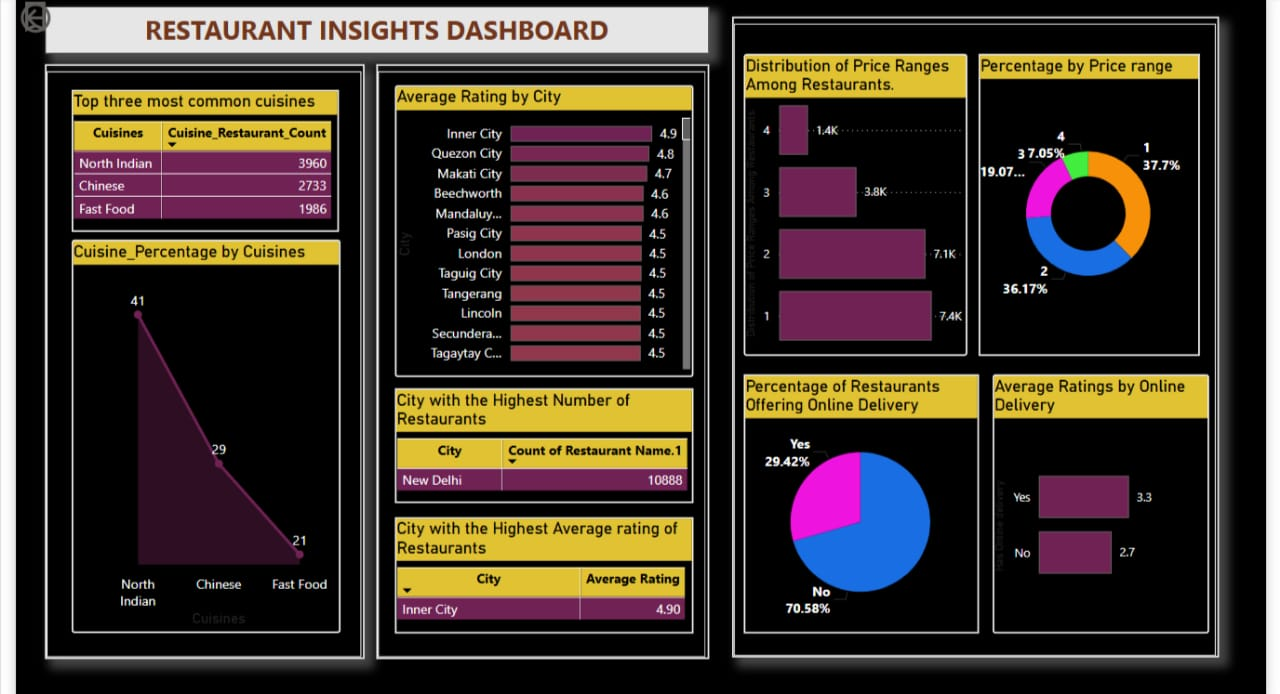

This screenshot's page, from the dashboard's own definition file:
{"tool":"powerbi","page":{"name":"LEVEL 1","canvas":[1280,720],"ordinal":0},"visuals":[{"type":"shape","box":[29.8,69,327.4,609.5],"z":0},{"type":"areaChart","fields":{"Category":["Dataset_cleaned.Cuisines"],"Y":["Dataset_cleaned.Cuisine_Percentage"]},"box":[57.1,248.8,275,403.6],"z":1000},{"type":"shape","box":[369,69,340.5,609.5],"z":2000},{"type":"barChart","fields":{"Category":["Dataset_cleaned.City"],"Y":["Dataset_cleaned.Average Rating"]},"box":[388.1,90.5,306,298.8],"z":3000},{"type":"tableEx","title":"Top three most common cuisines","fields":{"Values":["Dataset_cleaned.Cuisines","Dataset_cleaned.Cuisine_Restaurant_Count"]},"box":[57.1,95.2,273.8,145.2],"z":4000},{"type":"tableEx","title":"City with the Highest Average rating  of Restaurants","fields":{"Values":["Dataset_cleaned.City","Dataset_cleaned.Average Rating"]},"box":[388.1,533.3,306,119],"z":5000},{"type":"shape","box":[732.9,20,498.6,657.1],"z":6000},{"type":"barChart","title":" Distribution of Price Ranges Among Restaurants.","fields":{"Category":["Dataset_cleaned.Price range"],"Y":["CountNonNull(Dataset_cleaned.Restaurant ID)"]},"box":[745.2,58.3,228.6,309.5],"z":7000},{"type":"donutChart","fields":{"Category":["Dataset_cleaned.Price range"],"Y":["Dataset_cleaned.Percentage of Price Range"]},"box":[985.7,58.3,226.2,309.5],"z":8000},{"type":"tableEx","title":"City with the Highest Number of Restaurants","fields":{"Values":["Dataset_cleaned.City","Dataset_cleaned.Restaurant Name.1"]},"box":[388,401.7,305.7,117.9],"z":9000},{"type":"pieChart","title":"Percentage of Restaurants Offering Online Delivery","fields":{"Category":["Dataset_cleaned.Has Online delivery"],"Y":["CountNonNull(Dataset_cleaned.Has Online delivery)"]},"box":[745.2,386.9,240.5,265.5],"z":10000},{"type":"clusteredBarChart","title":"Average Ratings by Online Delivery","fields":{"Category":["Dataset_cleaned.Has Online delivery"],"Y":["Avg(Dataset_cleaned.Aggregate rating)"]},"box":[1000,386.9,221.4,265.5],"z":11000},{"type":"actionButton","box":[0,0,100,40],"z":12000},{"type":"actionButton","box":[0,0,100,40],"z":13000},{"type":"textbox","box":[29.8,9.5,679.8,48.8],"z":14000},{"type":"actionButton","box":[0,1.2,100,40.5],"z":15000}]}

Visuals, with their boxes in screenshot pixels (x1, y1, x2, y2):
shape: <box>39,55,362,655</box>
areaChart - Dataset_cleaned.Cuisines x Dataset_cleaned.Cuisine_Percentage: <box>66,232,337,629</box>
shape: <box>373,55,709,655</box>
barChart - Dataset_cleaned.City x Dataset_cleaned.Average Rating: <box>392,76,693,370</box>
"Top three most common cuisines" tableEx: <box>66,80,336,223</box>
"City with the Highest Average rating  of Restaurants" tableEx: <box>392,512,693,629</box>
shape: <box>732,6,1222,653</box>
" Distribution of Price Ranges Among Restaurants." barChart: <box>744,44,969,349</box>
donutChart - Dataset_cleaned.Price range x Dataset_cleaned.Percentage of Price Range: <box>980,44,1203,349</box>
"City with the Highest Number of Restaurants" tableEx: <box>392,382,693,498</box>
"Percentage of Restaurants Offering Online Delivery" pieChart: <box>744,368,980,629</box>
"Average Ratings by Online Delivery" clusteredBarChart: <box>995,368,1213,629</box>
actionButton: <box>10,0,108,26</box>
actionButton: <box>10,0,108,26</box>
textbox: <box>39,0,709,44</box>
actionButton: <box>10,0,108,28</box>
